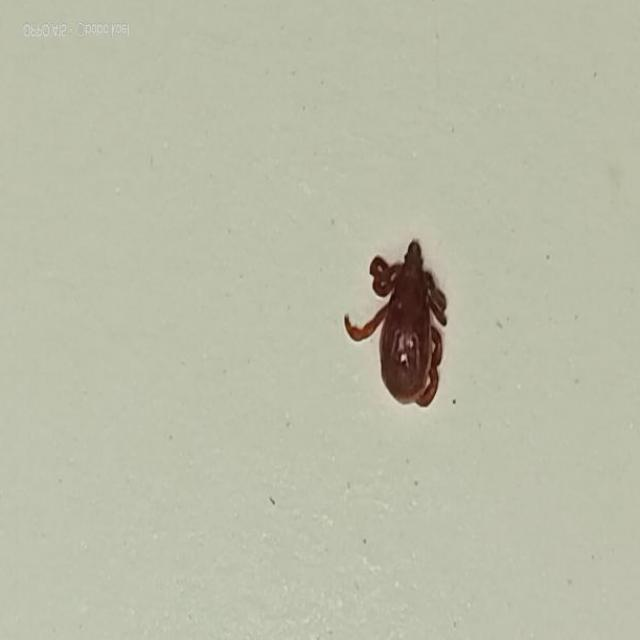Rhipicephalus Sanguineus-M: (343, 237, 449, 407)
